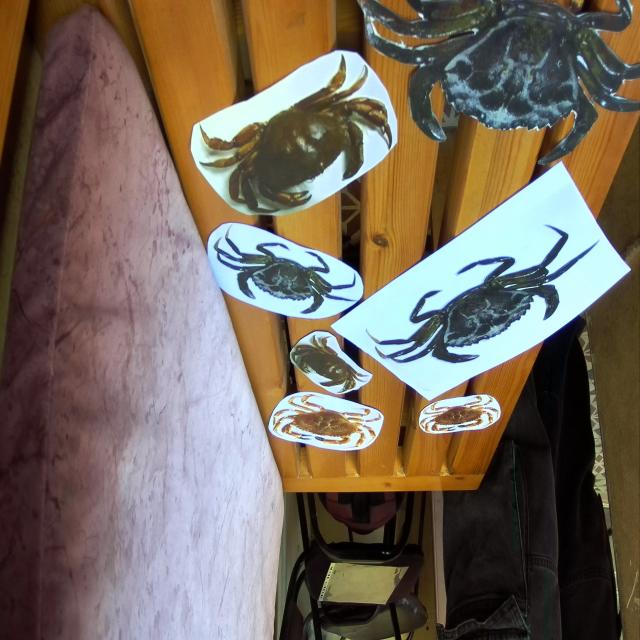European_Green_Crab: (365, 186, 608, 423), (209, 216, 362, 336)
